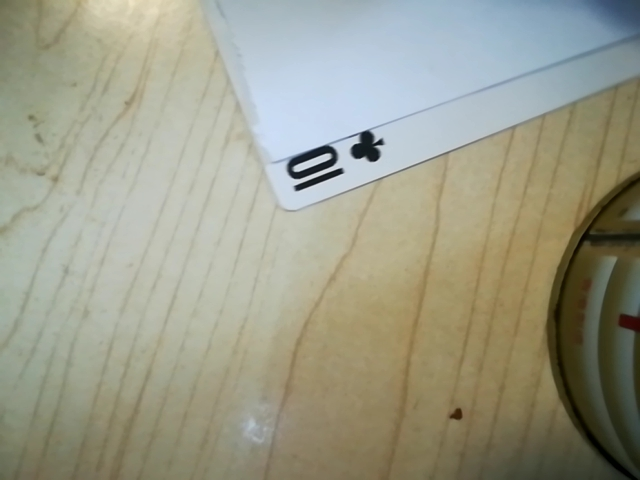mh 10: (278, 126, 396, 200)
